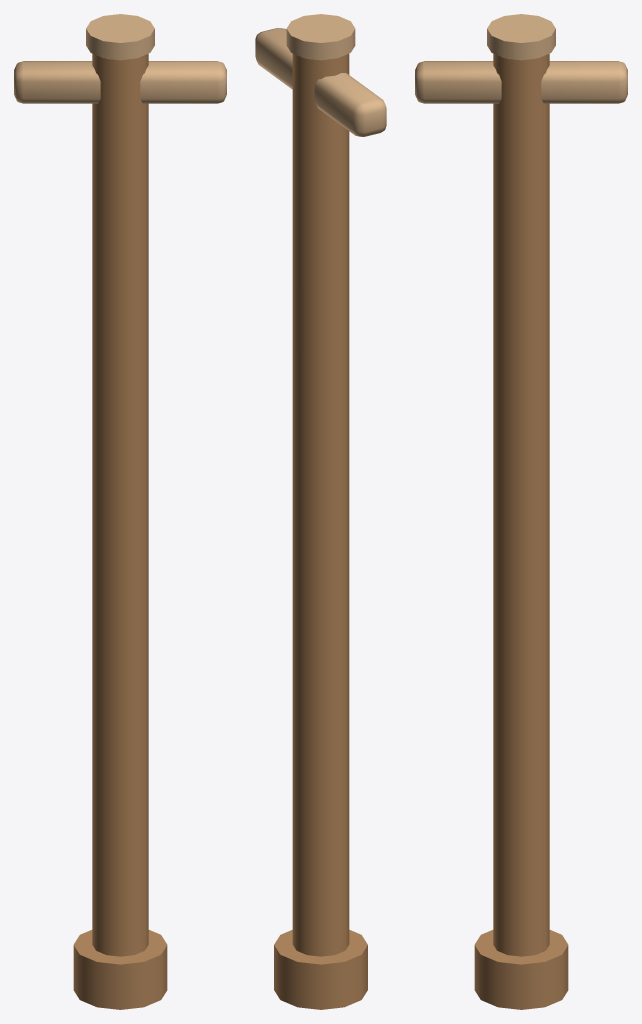
Rendered from clothes_post.glb.
3 views of the same model, side by side, from view 1: azimuth 90°, elevation 25°; view 2: azimuth 210°, elevation 25°; view 3: azimuth 270°, elevation 25° (orthographic).
Parts seen in each view (by area): view 1: clothes_post; view 2: clothes_post; view 3: clothes_post.
Boxes of the visible parts, left/top/right/bottom form: clothes_post: left=14, top=14, right=226, bottom=1009; clothes_post: left=255, top=14, right=386, bottom=1009; clothes_post: left=415, top=14, right=627, bottom=1009.
Size of the model in its own units: 0.15 by 1.69 by 0.34.
